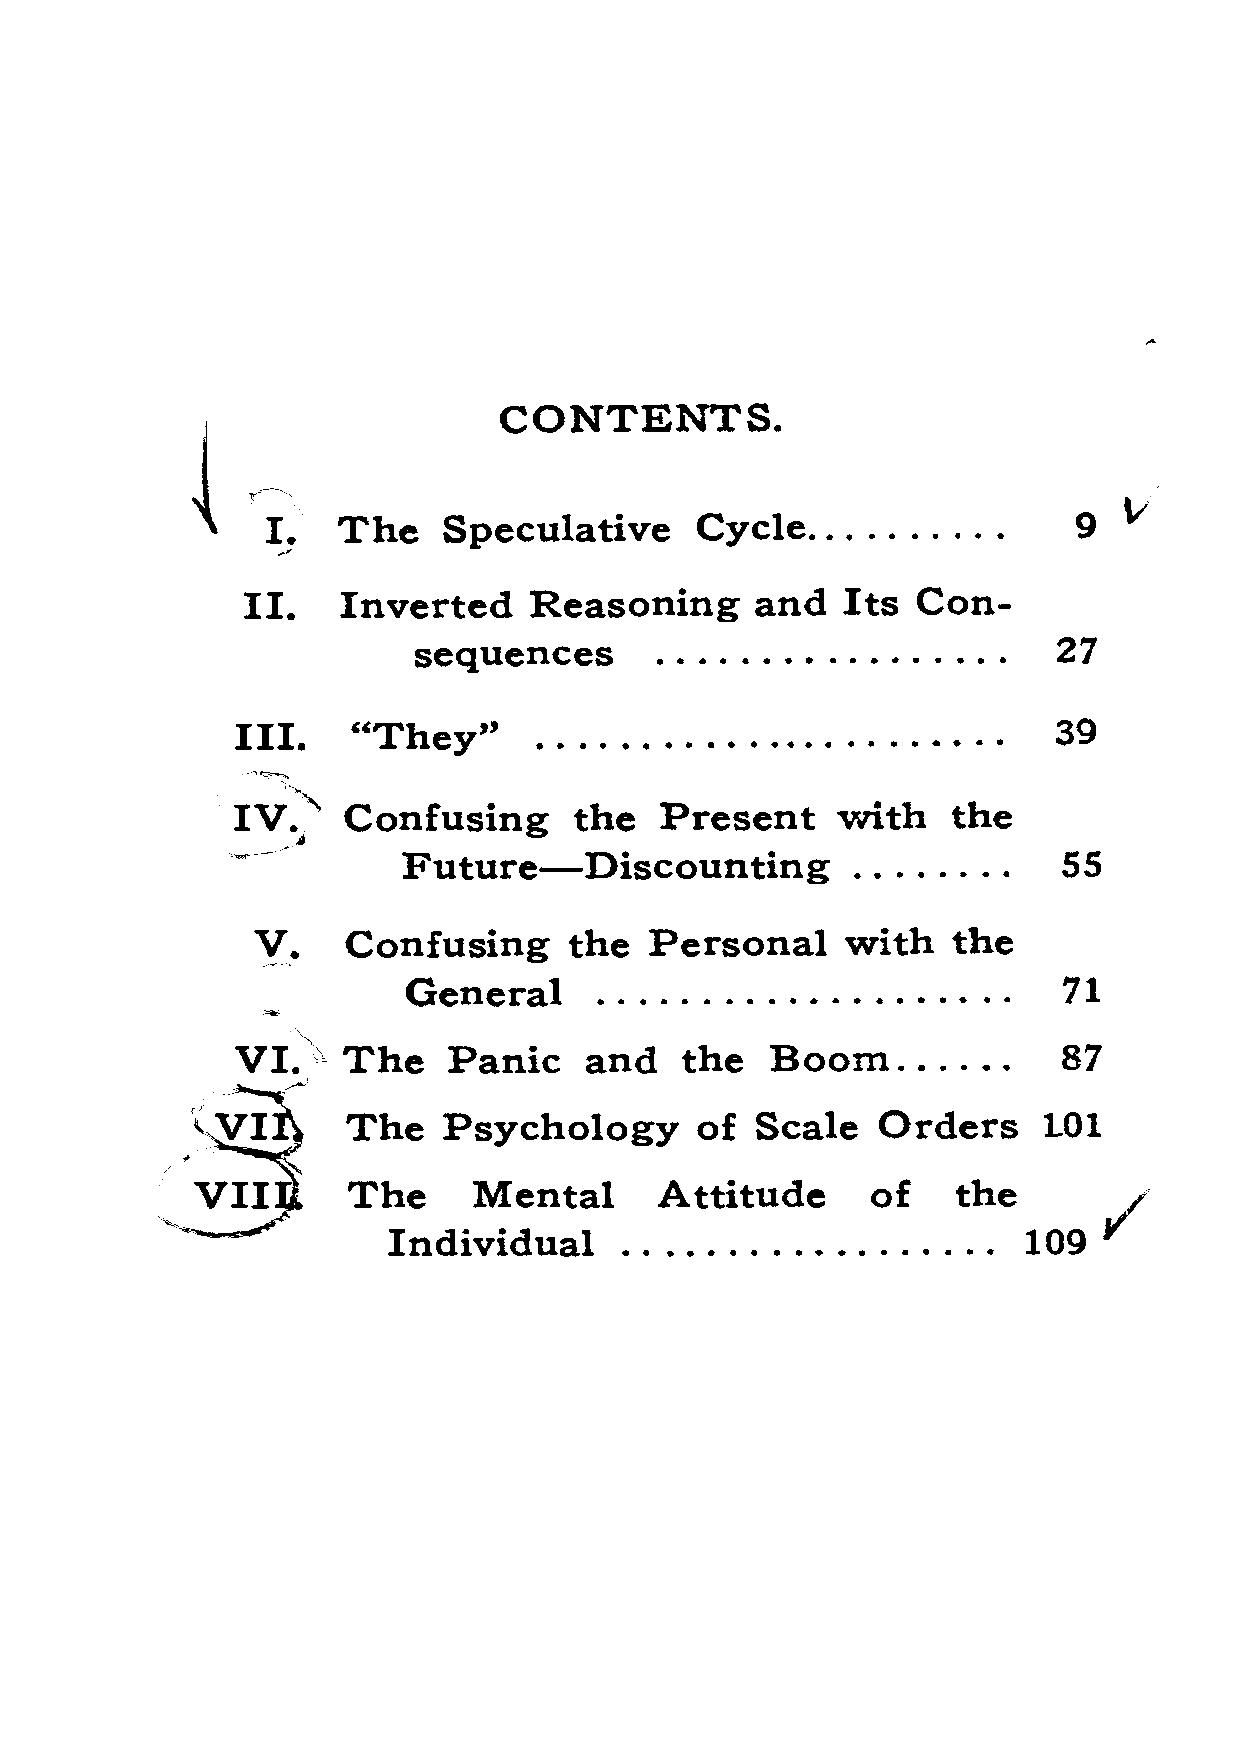TOC_chapter: (228, 790, 1023, 886), (250, 917, 1016, 1013), (189, 1173, 1019, 1261), (234, 584, 1020, 674), (212, 1106, 1023, 1147), (231, 1037, 891, 1082), (255, 507, 808, 544), (232, 717, 506, 756)
TOC_pagenumber: (1039, 1106, 1103, 1143), (1053, 627, 1104, 670), (1023, 1225, 1088, 1257), (1056, 976, 1107, 1007), (1053, 711, 1096, 746), (1059, 848, 1104, 880), (1062, 1041, 1103, 1076), (1070, 509, 1100, 545)
chapter: (491, 396, 788, 436)
